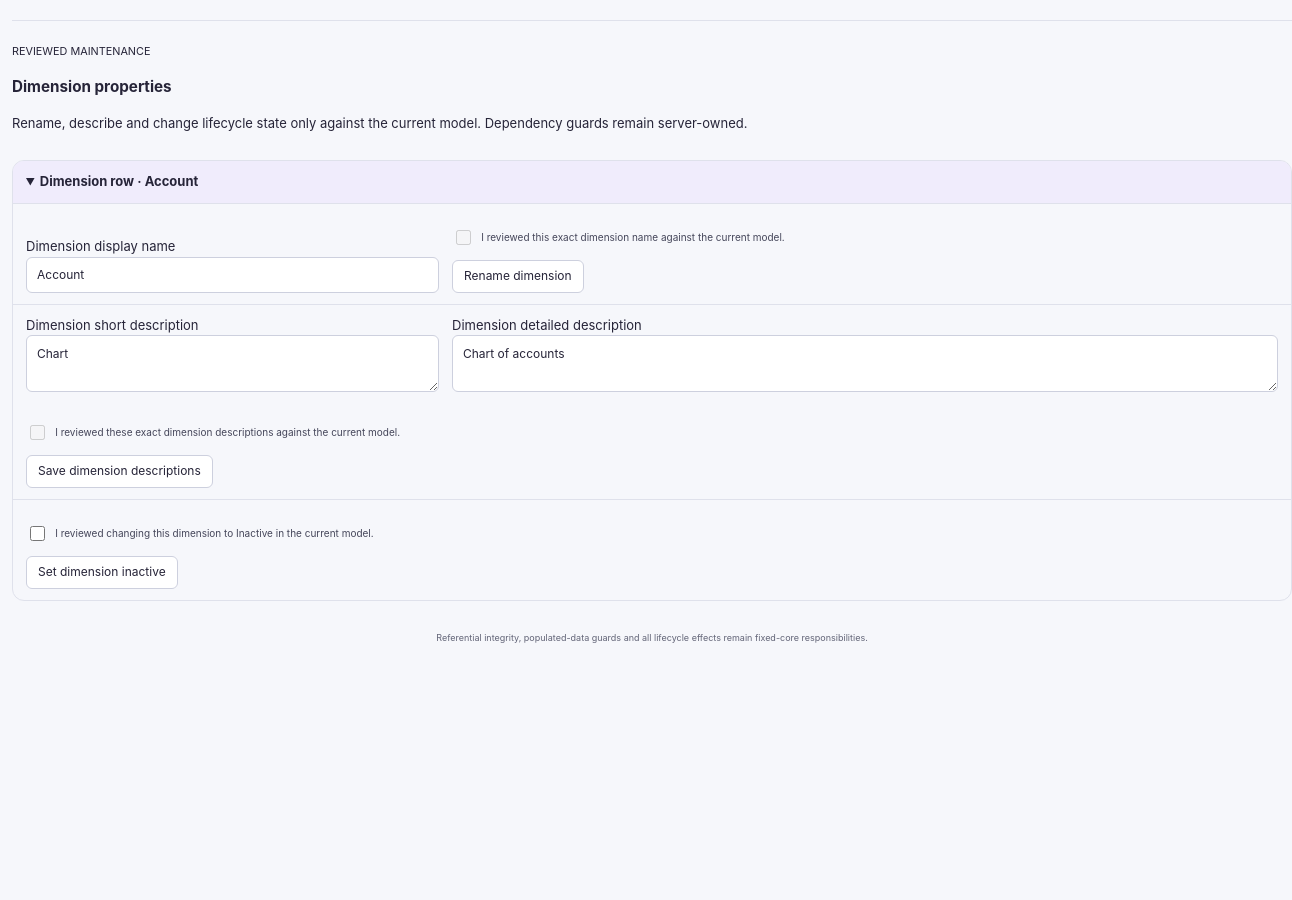
it: reports a fixed-core lifecycle refusal as uncommitted
Click the checkbox labelled "I reviewed changing this dimension to Inactive in the current model.".
click(38, 534)  # box [30,526,45,541]
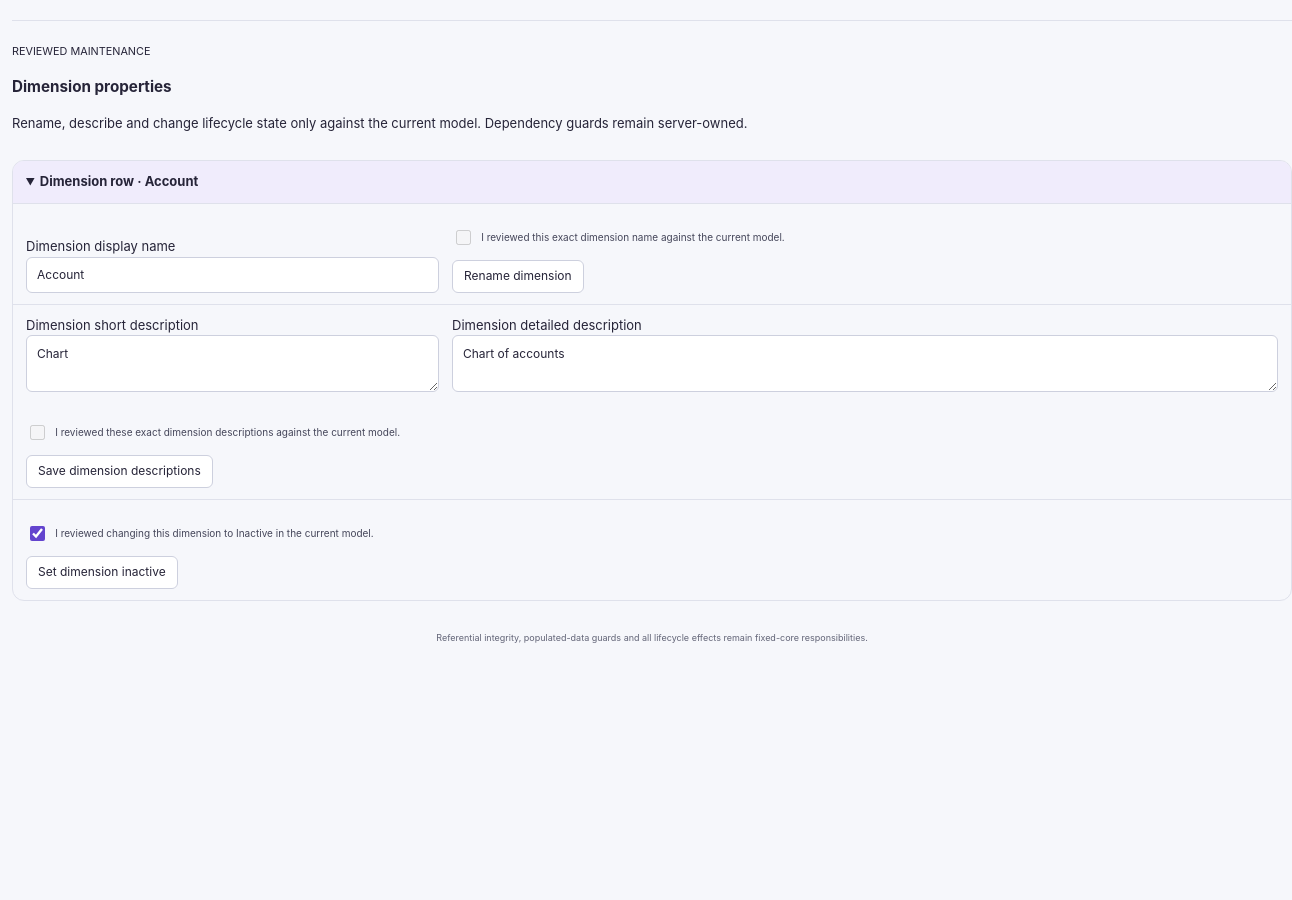
Click the button "Set dimension inactive".
click(102, 572)  # box [26,556,178,589]
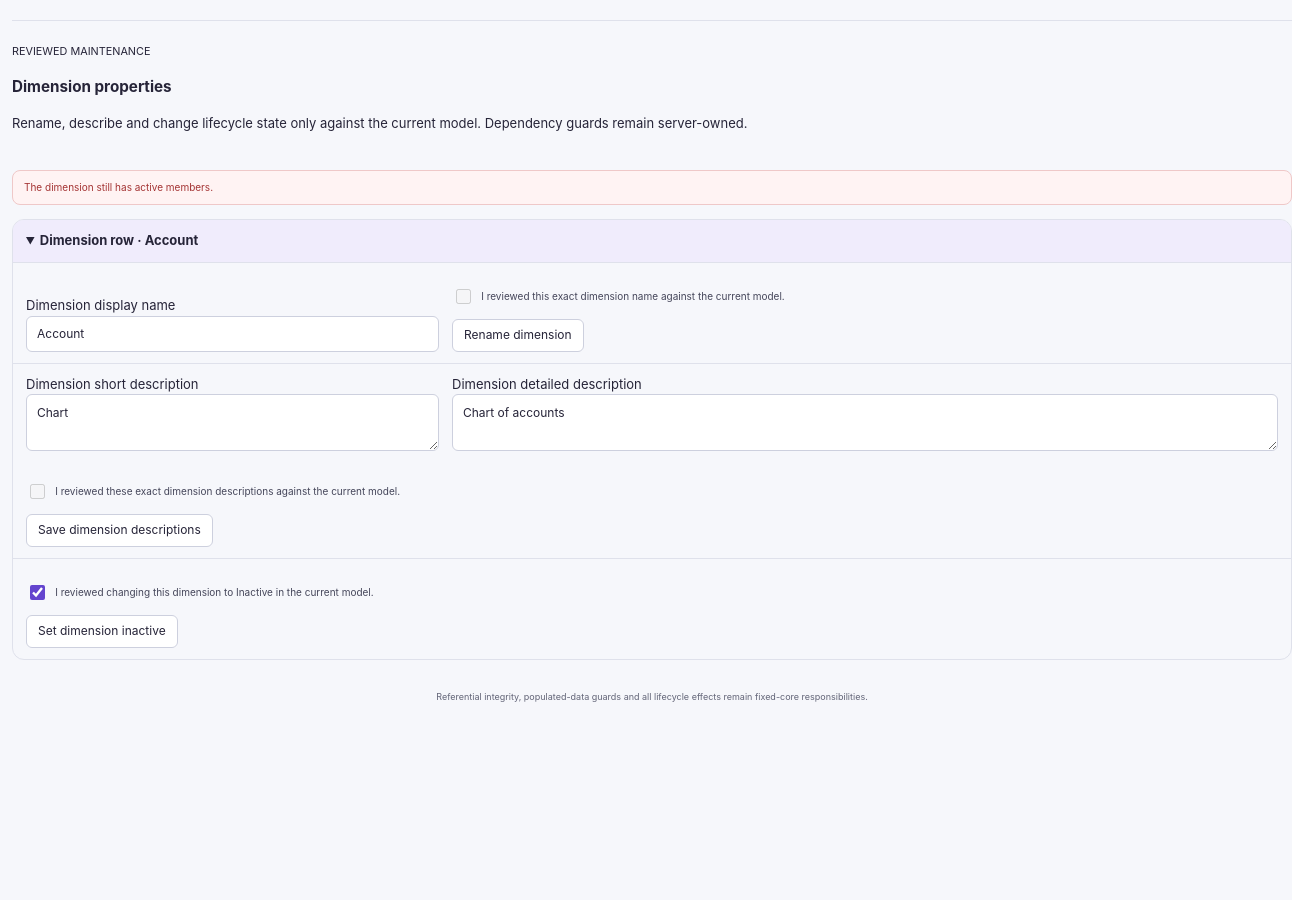
Expected: the message reads "The dimension still has active members.", [24,181,213,193]
